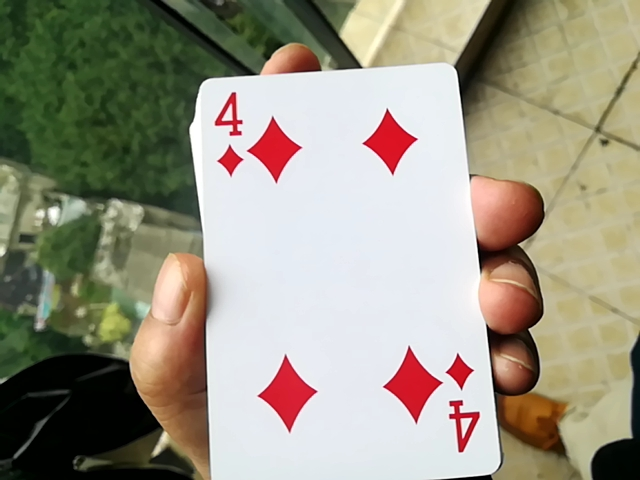fk 4: (176, 41, 492, 478)
